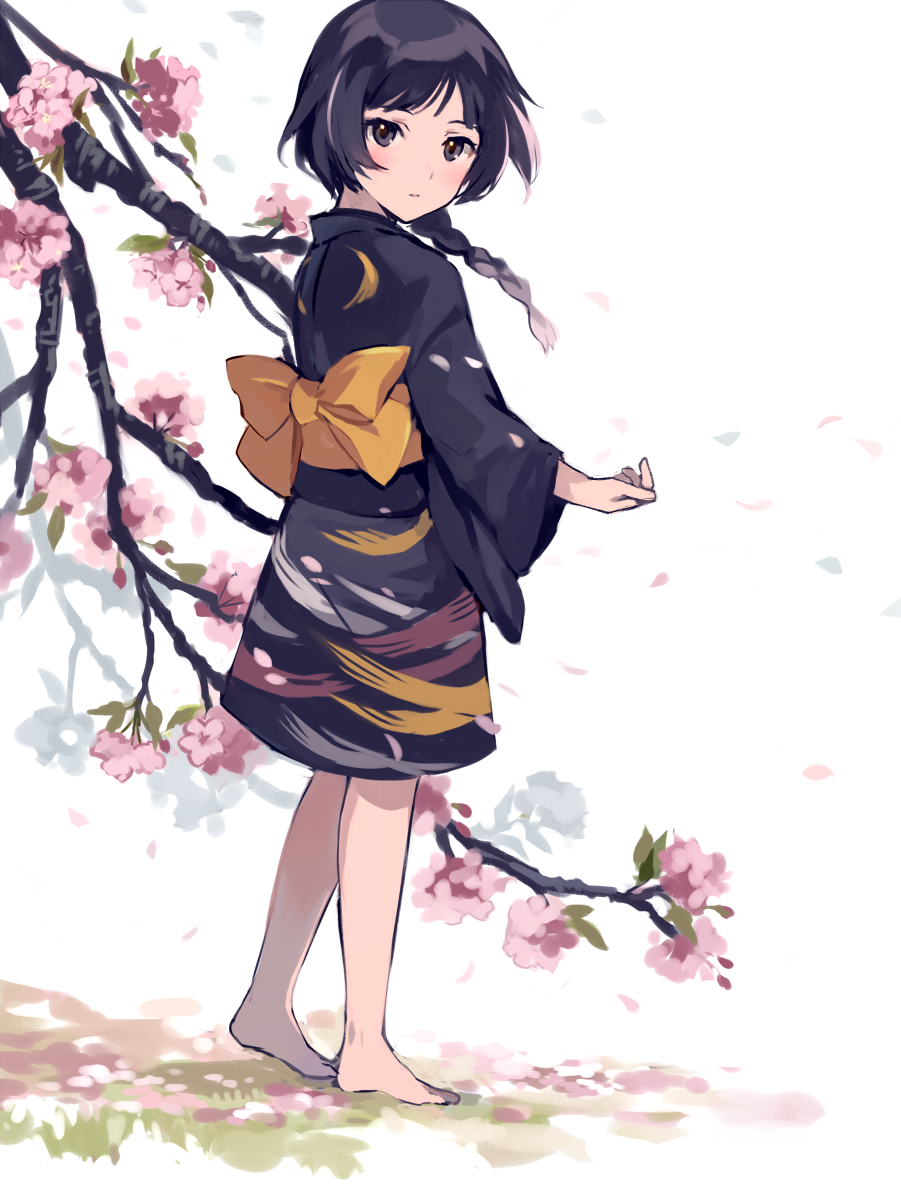纸片人正脸: (289, 6, 534, 225)
